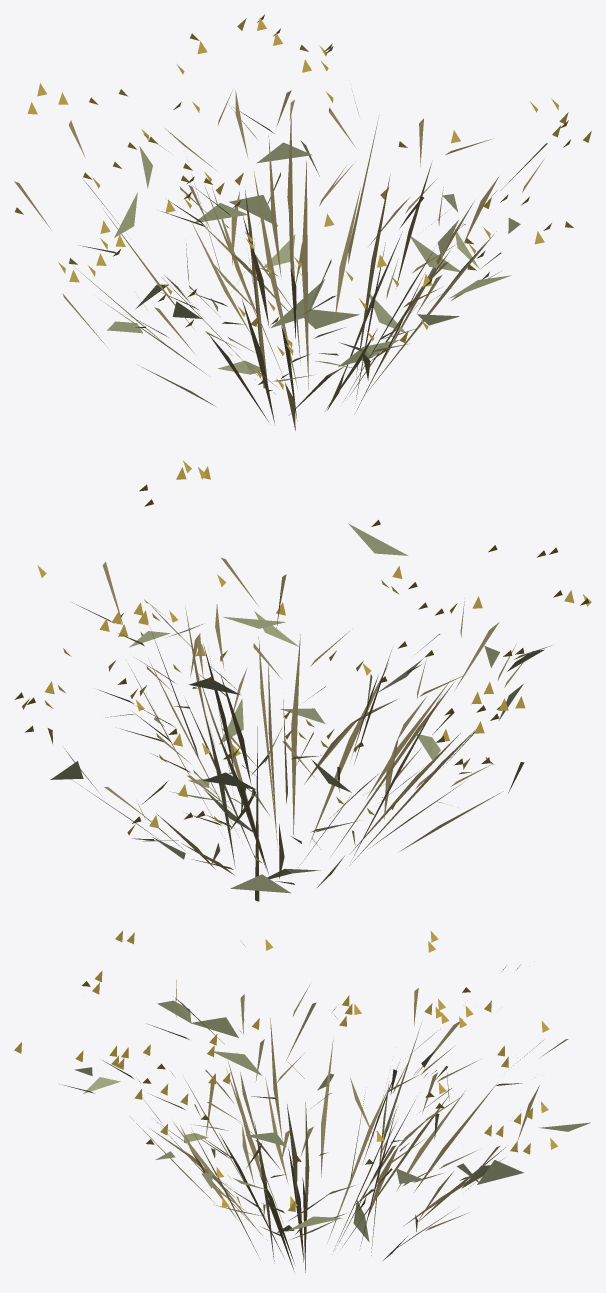
The model's file is Fond_Immortelle_0.fbx.
The picture shows the model from 3 angles, top to bottom: view 1: azimuth 30°, elevation 25°; view 2: azimuth 150°, elevation 25°; view 3: azimuth 270°, elevation 25°; orthographic projection. The views are drawn at different scales.
Visible parts, largest first — view 1: Fond_Immortelle_0; view 2: Fond_Immortelle_0; view 3: Fond_Immortelle_0.
Boxes of the visible parts, bbox=[...] form: Fond_Immortelle_0: bbox=[14, 14, 591, 430]; Fond_Immortelle_0: bbox=[14, 460, 591, 901]; Fond_Immortelle_0: bbox=[14, 930, 590, 1272].
Bounding box in the file's own units: 55.05 × 34.17 × 62.52.
